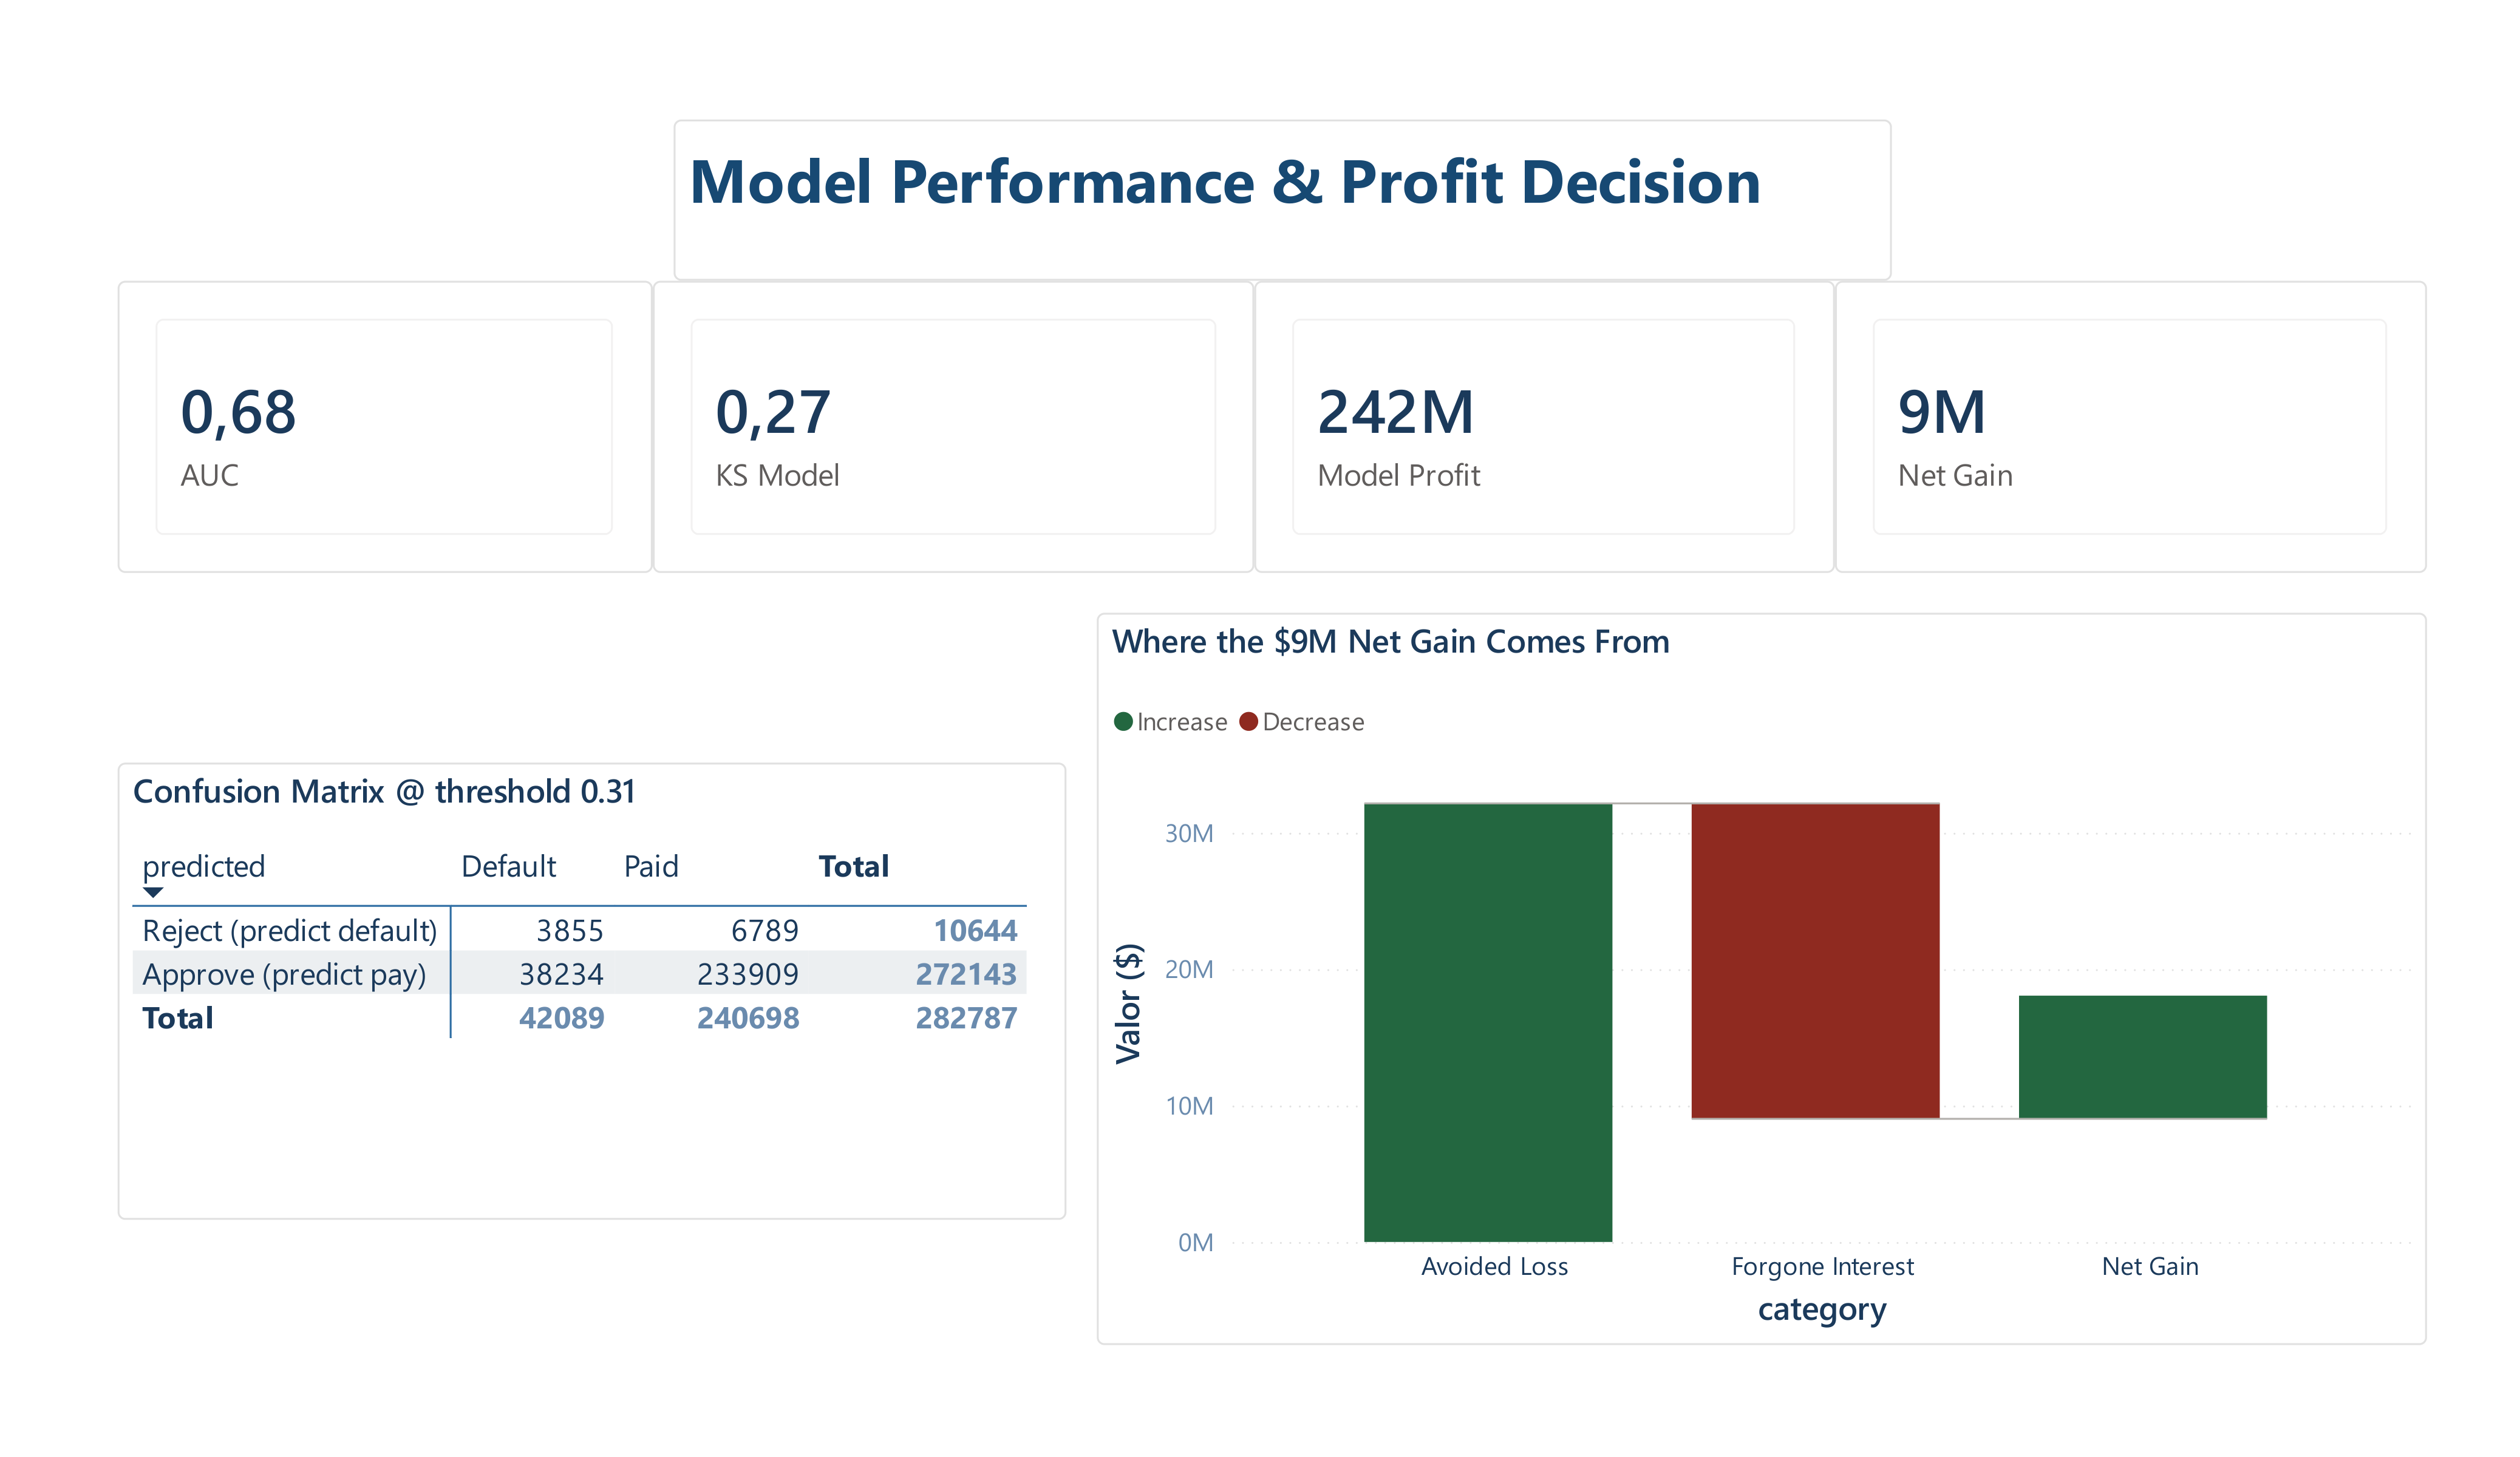

The dashboard page shown, as its layout file describes it:
{"tool":"powerbi","page":{"name":"Performance & Decision","canvas":[1280,720],"ordinal":0},"visuals":[{"type":"group","id":"g1","title":"Group 1","box":[38.1,124.1,1216.6,154.3],"z":0},{"type":"pivotTable","title":"Confusion Matrix @ threshold 0.31","fields":{"Columns":["facts_confusion_long.actual"],"Rows":["facts_confusion_long.predicted"],"Values":["Sum(facts_confusion_long.count)"]},"box":[38.1,377.7,500.1,241.2],"z":2000},{"type":"waterfallChart","title":"Where the $9M Net Gain Comes From","fields":{"Category":["facts_waterfall.category"],"Y":["Sum(facts_waterfall.value)"]},"box":[554.2,298.8,700.5,385.7],"z":3000},{"type":"cardVisual","fields":{"Data":["facts_metrics.AUC"]},"box":[38.1,124.1,281.7,154.4],"z":3500,"group":"g1"},{"type":"textbox","box":[330.7,39,642,85.1],"z":4000},{"type":"cardVisual","fields":{"Data":["facts_metrics.KS Model"]},"box":[319.8,124.1,317.4,154.4],"z":4000,"group":"g1"},{"type":"cardVisual","fields":{"Data":["facts_metrics.Model Profit"]},"box":[637.2,124.1,305.5,154.4],"z":4500,"group":"g1"},{"type":"cardVisual","fields":{"Data":["facts_financial.Net Gain"]},"box":[942.7,124.1,312,154.4],"z":5000,"group":"g1"}]}

Visuals, with their boxes on the page's 1280x720 design canvas (x1, y1, x2, y2). These are canvas units, not pixel positions in the 2520x1457 screenshot, which may show the page scaled, cropped or inside an application window:
"Group 1" group: [x1=38, y1=124, x2=1255, y2=278]
"Confusion Matrix @ threshold 0.31" pivotTable: [x1=38, y1=378, x2=538, y2=619]
"Where the $9M Net Gain Comes From" waterfallChart: [x1=554, y1=299, x2=1255, y2=684]
cardVisual - facts_metrics.AUC: [x1=38, y1=124, x2=320, y2=278]
textbox: [x1=331, y1=39, x2=973, y2=124]
cardVisual - facts_metrics.KS Model: [x1=320, y1=124, x2=637, y2=278]
cardVisual - facts_metrics.Model Profit: [x1=637, y1=124, x2=943, y2=278]
cardVisual - facts_financial.Net Gain: [x1=943, y1=124, x2=1255, y2=278]
